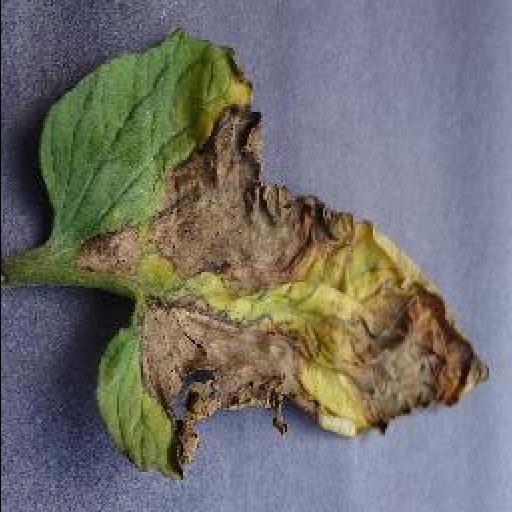disease_tomato: (34, 23, 494, 485)
